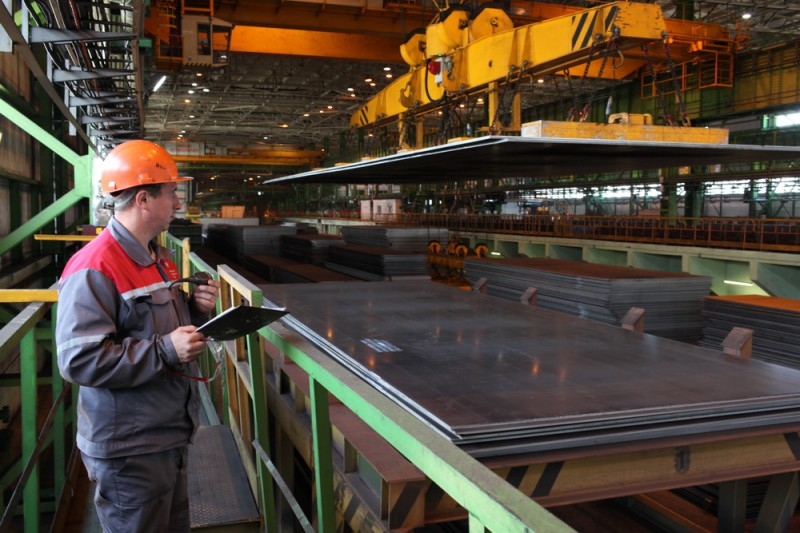person: (51, 140, 221, 533)
